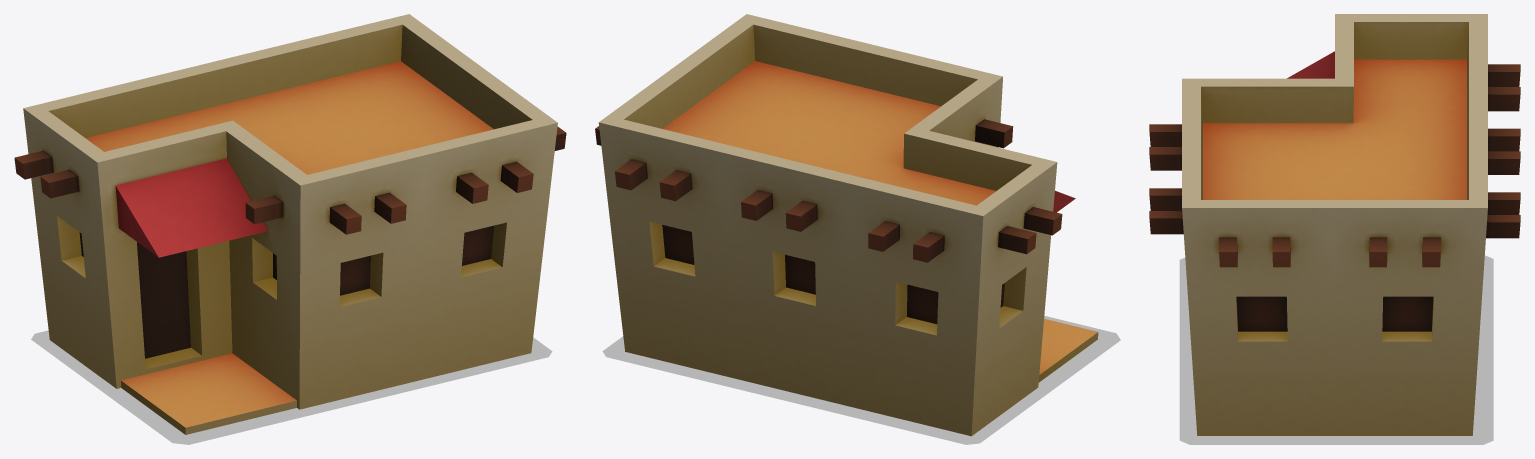
Rendered from 3x2_house.FBX.
3 views of the same model, side by side, from view 1: azimuth 30°, elevation 25°; view 2: azimuth 150°, elevation 25°; view 3: azimuth 270°, elevation 25° (orthographic). The views are drawn at different scales.
Visible parts, largest first — view 1: 3x2_house, 3x2_house_soft_shadow; view 2: 3x2_house, 3x2_house_soft_shadow; view 3: 3x2_house, 3x2_house_soft_shadow.
Boxes of the visible parts, x1=… form: 3x2_house: x1=14, y1=14, x2=566, y2=434; 3x2_house_soft_shadow: x1=31, y1=330, x2=552, y2=444; 3x2_house: x1=595, y1=14, x2=1098, y2=436; 3x2_house_soft_shadow: x1=602, y1=315, x2=1120, y2=444; 3x2_house: x1=1149, y1=14, x2=1520, y2=435; 3x2_house_soft_shadow: x1=1179, y1=255, x2=1493, y2=444.
Size of the model in its own units: 3211 by 1623 by 2281.
